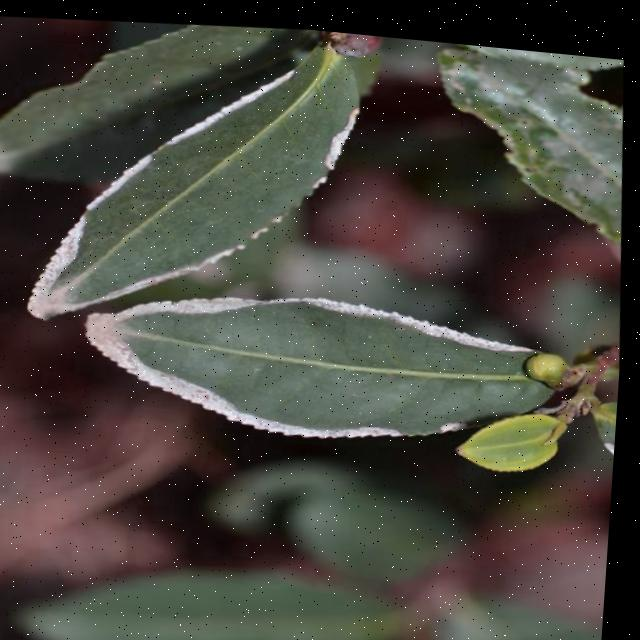Tea cloud leaf blight: (2, 60, 375, 344), (87, 270, 506, 457)
